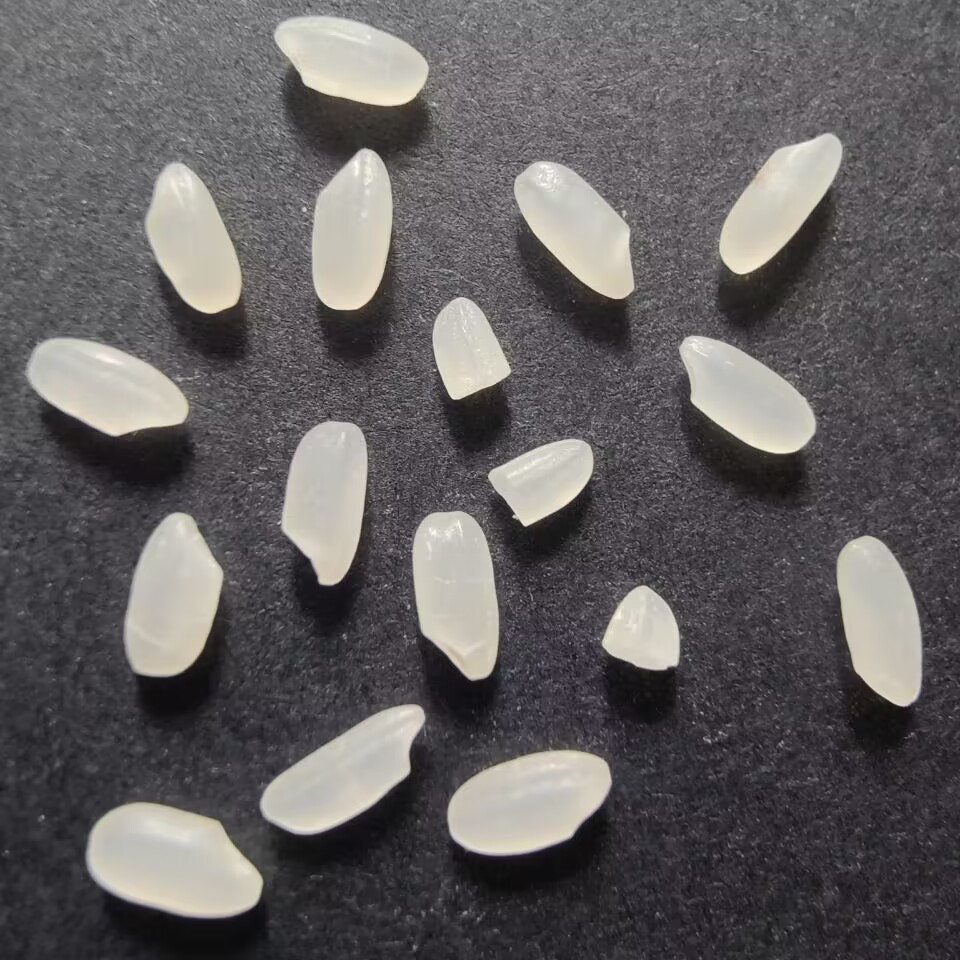broken: (486, 432, 597, 530), (431, 293, 515, 406), (596, 578, 689, 677)
rice: (251, 698, 425, 844), (79, 797, 273, 918), (510, 154, 643, 305), (117, 506, 229, 684), (439, 750, 620, 859), (713, 129, 846, 275), (23, 333, 194, 442), (672, 329, 821, 453), (266, 9, 437, 108), (278, 410, 371, 592), (411, 507, 505, 687), (834, 529, 926, 709), (144, 156, 247, 315), (305, 145, 400, 314)
